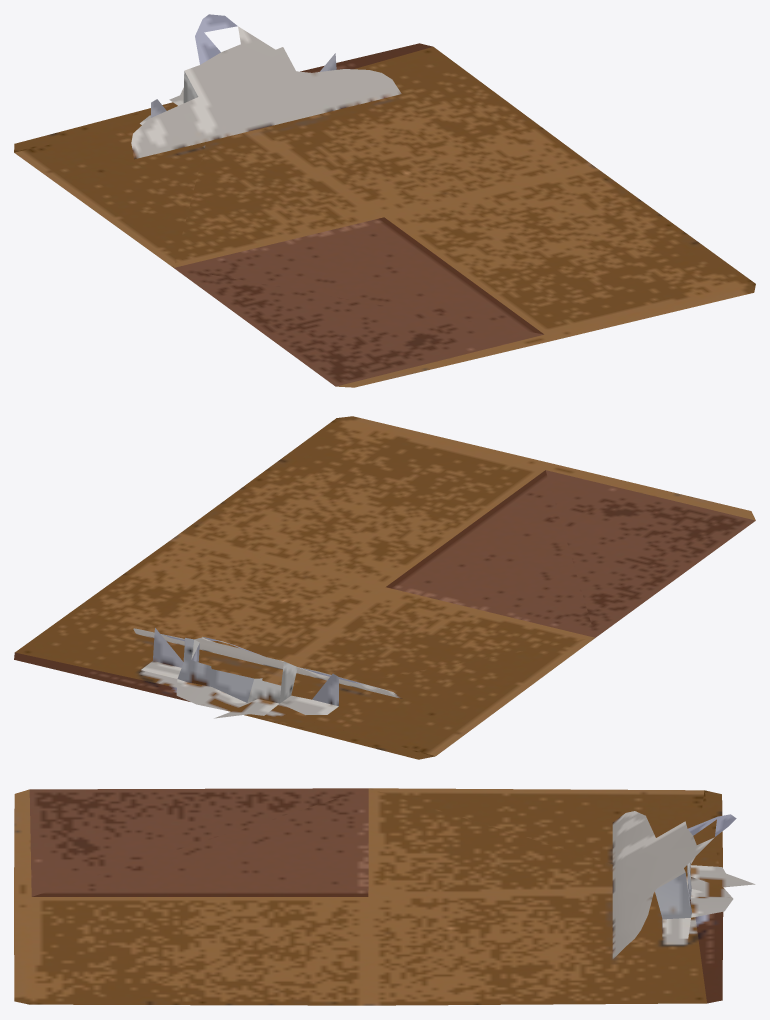
Rendered from clipboard.glb.
3 renders of one model, top to bottom at view 1: azimuth 30°, elevation 25°; view 2: azimuth 150°, elevation 25°; view 3: azimuth 270°, elevation 25°, orthographic. The views are drawn at different scales.
Parts seen in each view (by area): view 1: mesh; view 2: mesh; view 3: mesh.
Part boxes in pixels (box(x1,y1,x2,y2)): mesh: box(14, 14, 755, 387); mesh: box(14, 416, 755, 759); mesh: box(14, 788, 755, 1005).
Bounding box in the file's own units: 0.2441 × 0.042 × 0.3545.
1 material, 1 textured.
